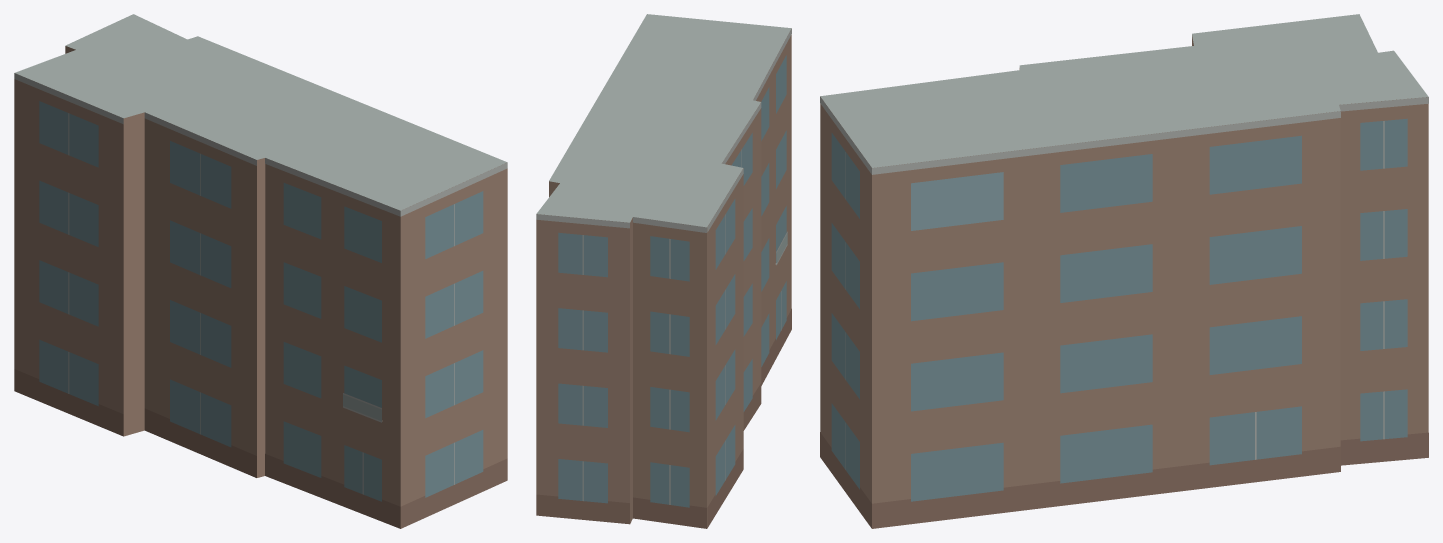
File: survey-upis-32622347.glb
3 views of the same model, side by side, from view 1: azimuth 30°, elevation 25°; view 2: azimuth 150°, elevation 25°; view 3: azimuth 270°, elevation 25° (orthographic). The views are drawn at different scales.
Visible parts, largest first — view 1: survey-upis-32622347.tmp; view 2: survey-upis-32622347.tmp; view 3: survey-upis-32622347.tmp.
Part boxes in pixels (x1,y1,x2,y2): survey-upis-32622347.tmp: [14, 14, 507, 528]; survey-upis-32622347.tmp: [536, 14, 791, 528]; survey-upis-32622347.tmp: [820, 14, 1428, 528].
Bounding box in the file's own units: 11.77 × 12.84 × 19.64.
